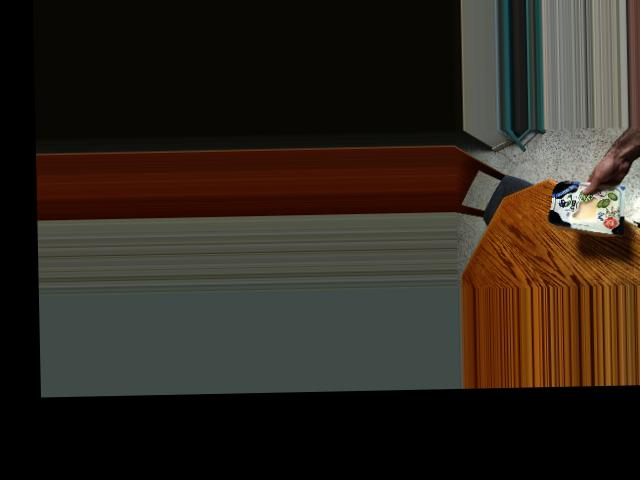cheese: (545, 179, 616, 232)
